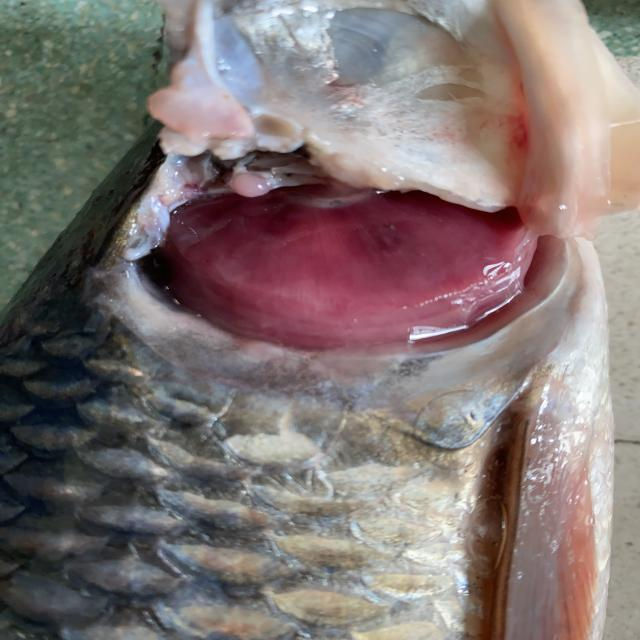Fresh: (127, 141, 594, 391)
